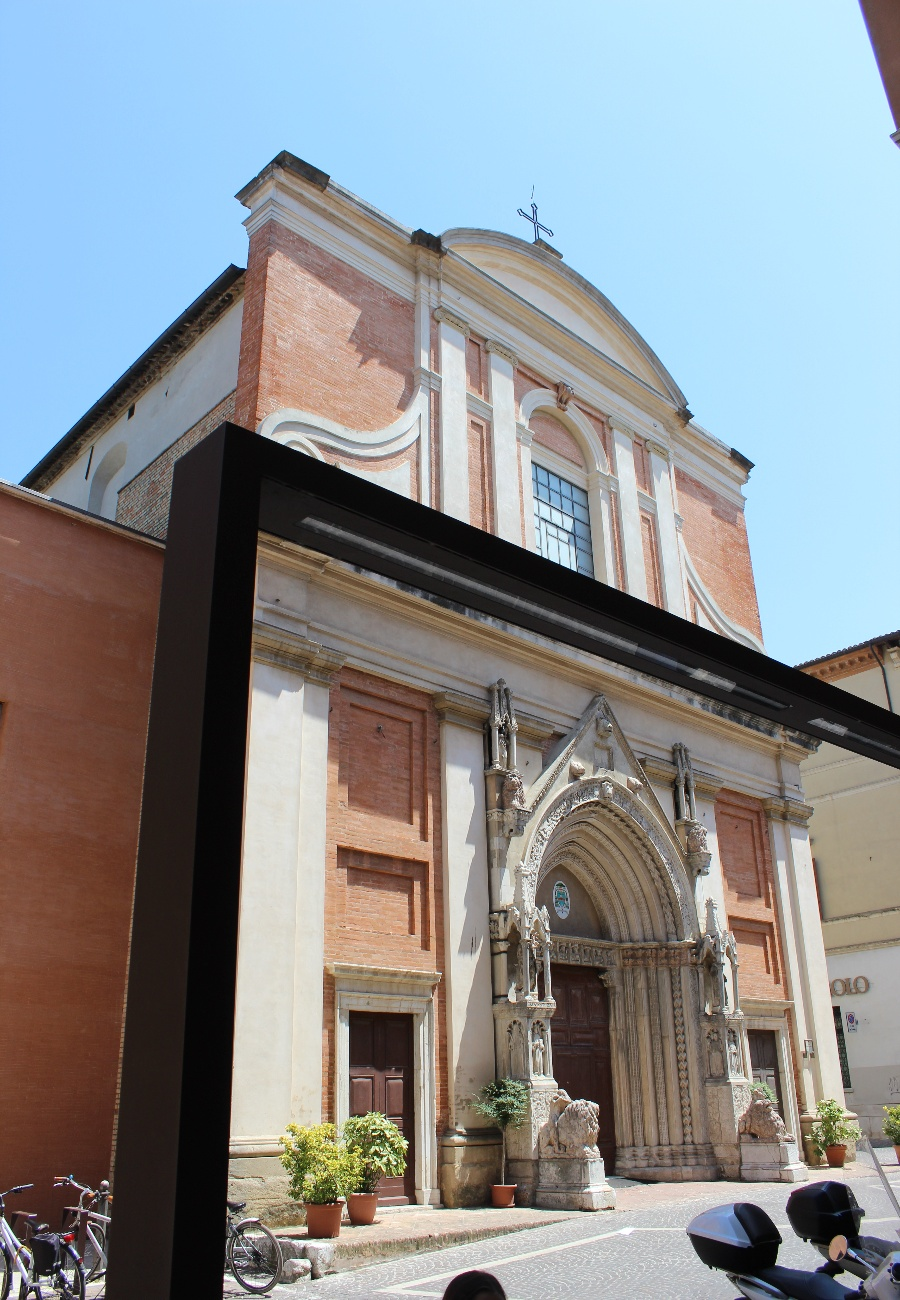Chiesa San Agostino: (214, 159, 858, 1176)
